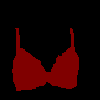reggiseno: (12, 27, 79, 91)
